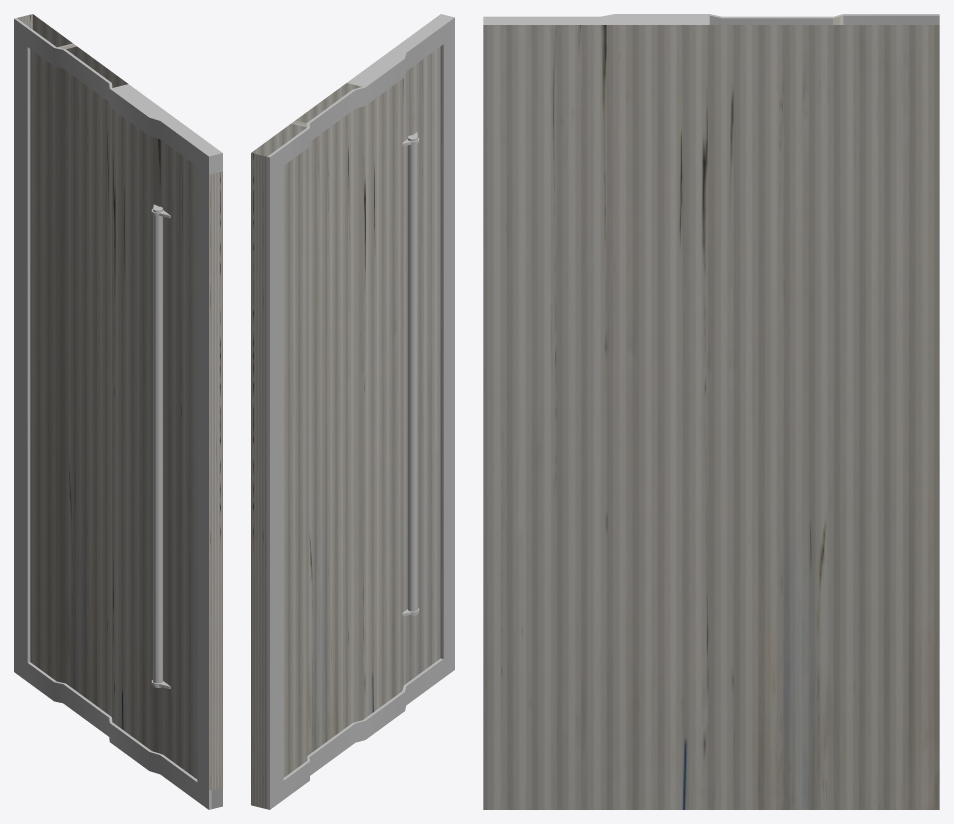
The model's file is MDL_Porta1.fbx.
3 renders of one model, left to right at view 1: azimuth 30°, elevation 25°; view 2: azimuth 150°, elevation 25°; view 3: azimuth 270°, elevation 25°, orthographic. The views are drawn at different scales.
Visible parts, largest first — view 1: group4_Paradinha_8; view 2: group4_Paradinha_8; view 3: group4_Paradinha_8.
Part boxes in pixels (left/top/right/bottom): group4_Paradinha_8: left=14, top=14, right=222, bottom=809; group4_Paradinha_8: left=251, top=14, right=454, bottom=809; group4_Paradinha_8: left=483, top=14, right=939, bottom=809.
Size of the model in its own units: 0.2007 by 5.2 by 2.74.
